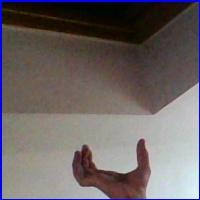space: (64, 137, 161, 195)
